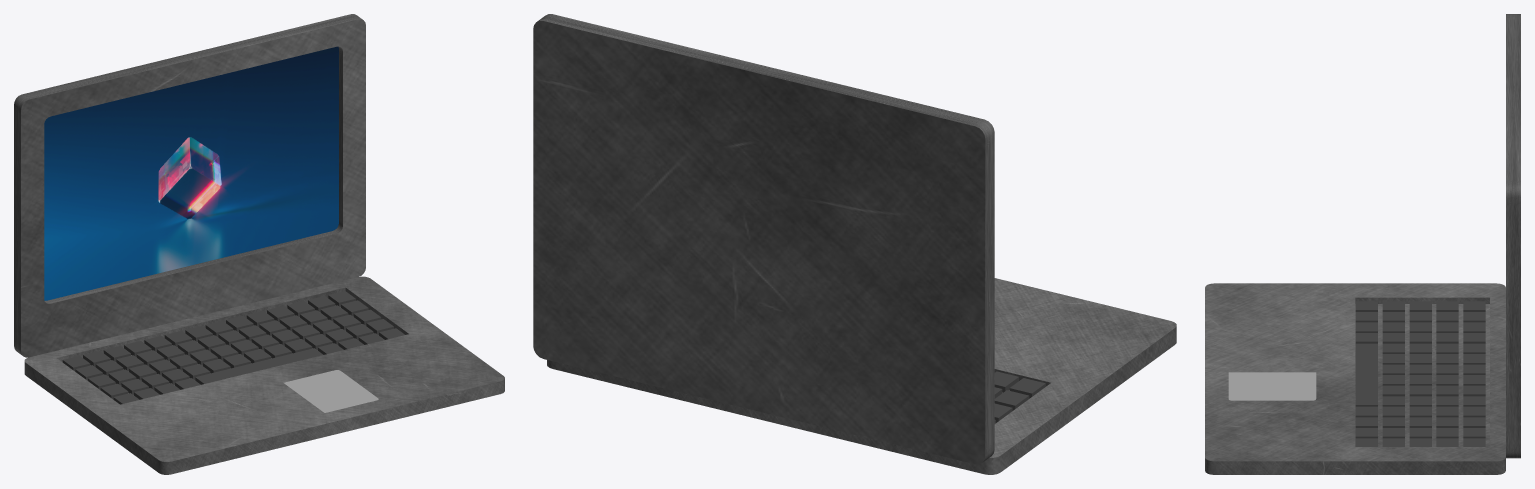
Rendered from notebook.gltf.
3 renders of one model, left to right at view 1: azimuth 30°, elevation 25°; view 2: azimuth 150°, elevation 25°; view 3: azimuth 270°, elevation 25°, orthographic. The views are drawn at different scales.
Visible parts, largest first — view 1: Monitor, Base, Teclado, Pad; view 2: Monitor, Base, Teclado; view 3: Base, Teclado, Monitor, Pad.
Part boxes in pixels (bbox=[...]): Monitor: bbox=[14, 14, 365, 357]; Base: bbox=[24, 276, 504, 474]; Teclado: bbox=[62, 291, 404, 404]; Pad: bbox=[283, 370, 378, 412]; Monitor: bbox=[533, 14, 994, 464]; Base: bbox=[547, 278, 1176, 474]; Teclado: bbox=[994, 371, 1045, 423]; Base: bbox=[1205, 283, 1505, 474]; Teclado: bbox=[1355, 301, 1485, 446]; Monitor: bbox=[1506, 14, 1520, 458]; Pad: bbox=[1228, 372, 1316, 400].
Bounding box in the file's own units: 2.8 × 2.1 × 2.1.
Materials: 4 (2 with a texture image).
